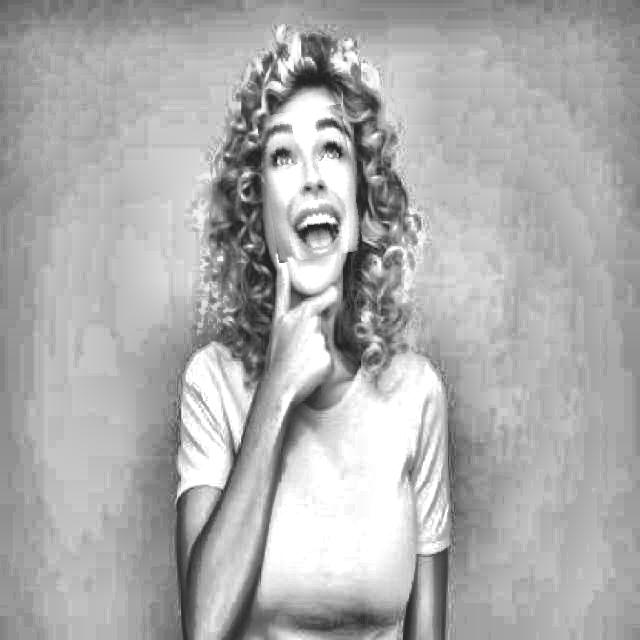happy: (262, 107, 358, 261)
